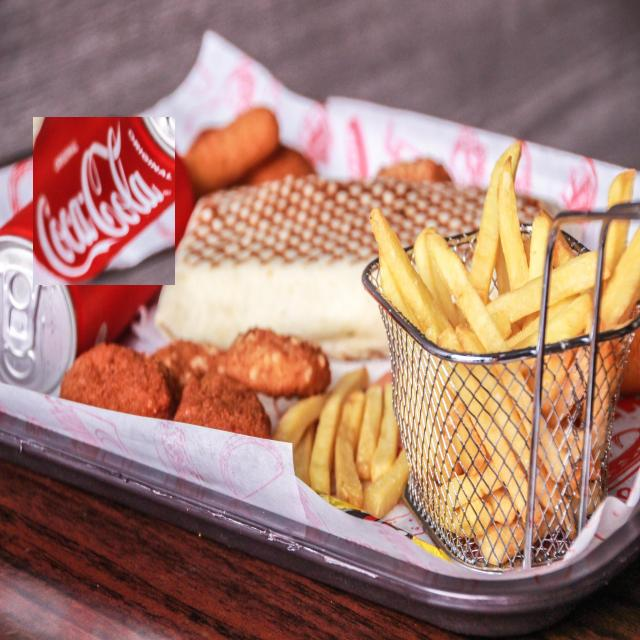coca-cola: (33, 117, 175, 285)
